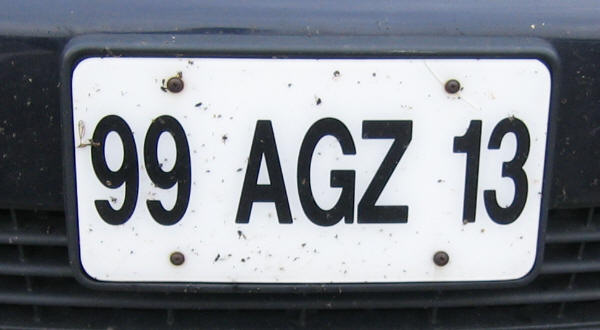license_plate: (71, 56, 552, 283)
